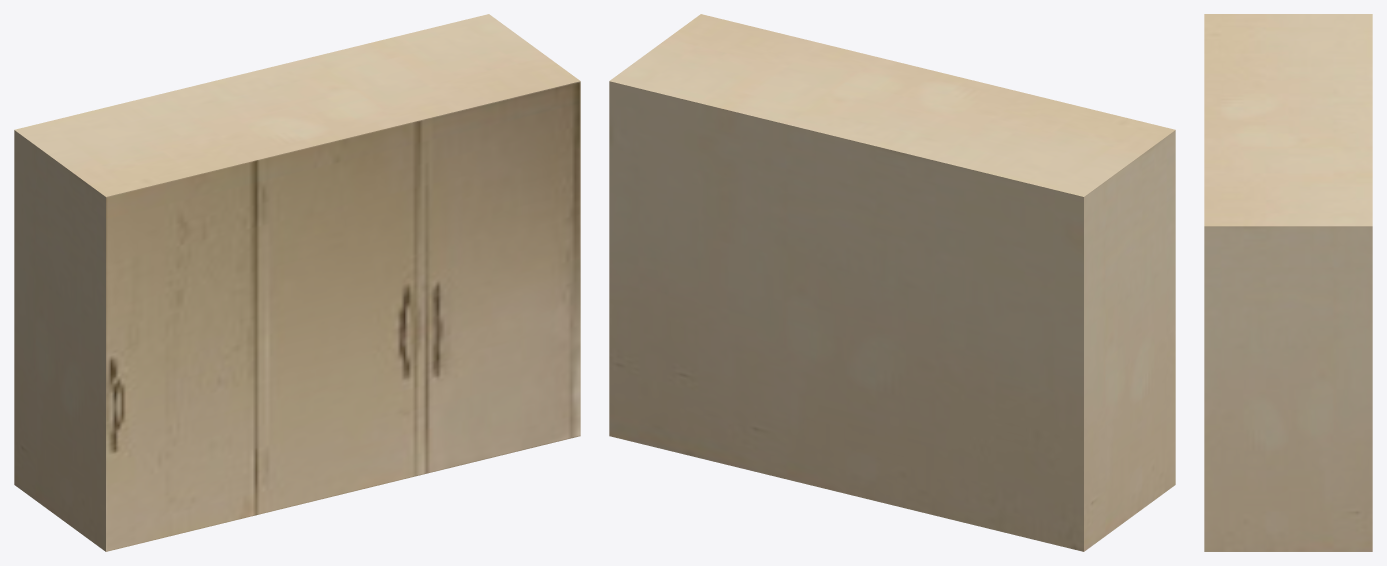
Rendered from TopCupboard.fbx_Scene.fbx.
3 views of the same model, side by side, from view 1: azimuth 30°, elevation 25°; view 2: azimuth 150°, elevation 25°; view 3: azimuth 270°, elevation 25° (orthographic). The views are drawn at different scales.
Visible parts, largest first — view 1: TopCupboard; view 2: TopCupboard; view 3: TopCupboard.
Boxes of the visible parts, bbox=[...] form: TopCupboard: bbox=[14, 14, 580, 551]; TopCupboard: bbox=[609, 14, 1175, 551]; TopCupboard: bbox=[1204, 14, 1372, 551].
Bounding box in the file's own units: 89.6 × 64 × 30.
2 materials, 2 textured.
